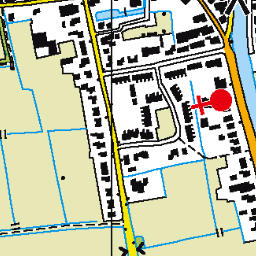church: (186, 87, 236, 119)
